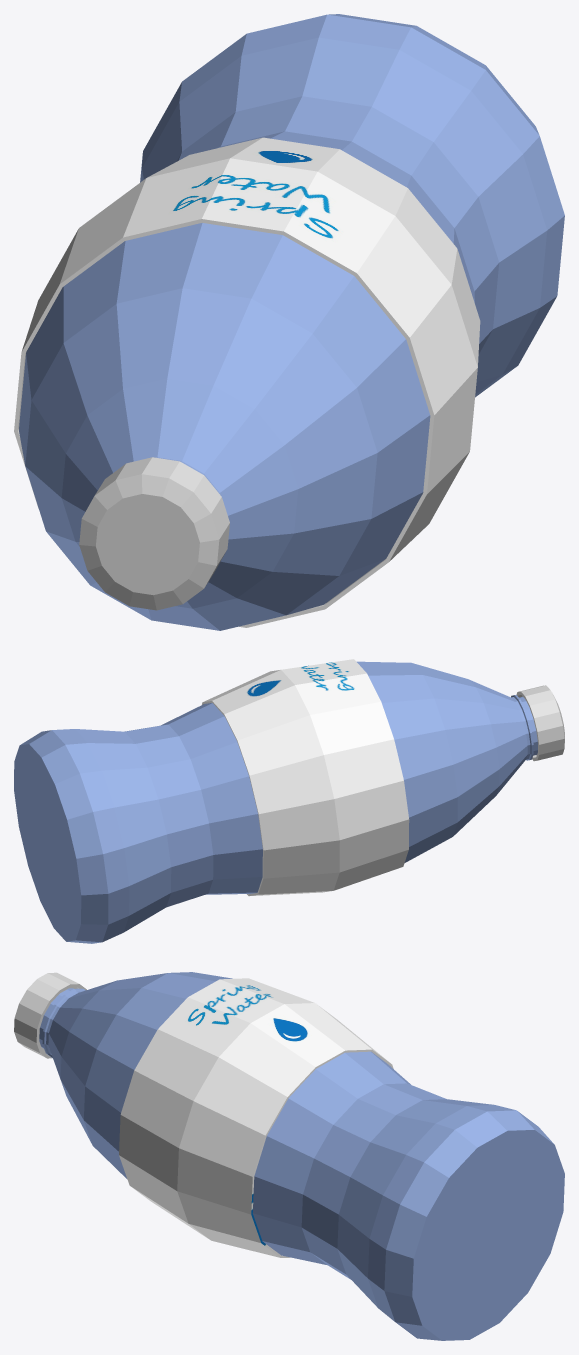
The model's file is bottle.gltf.
3 renders of one model, top to bottom at view 1: azimuth 30°, elevation 25°; view 2: azimuth 150°, elevation 25°; view 3: azimuth 270°, elevation 25°, orthographic. The views are drawn at different scales.
Visible parts, largest first — view 1: Cylinder, Cylinder.002, Cylinder.001; view 2: Cylinder, Cylinder.002, Cylinder.001; view 3: Cylinder, Cylinder.002, Cylinder.001.
Part boxes in pixels (box(x1,y1,x2,y2)): Cylinder: box(19, 14, 564, 630); Cylinder.002: box(14, 137, 480, 627); Cylinder.001: box(79, 457, 229, 610); Cylinder: box(14, 661, 537, 943); Cylinder.002: box(202, 659, 409, 896); Cylinder.001: box(516, 685, 564, 761); Cylinder: box(39, 972, 564, 1340); Cylinder.002: box(119, 978, 393, 1257); Cylinder.001: box(14, 972, 86, 1058).
Size of the model in its own units: 1.77 by 0.9709 by 1.9.
Materials: 3 (1 with a texture image).
